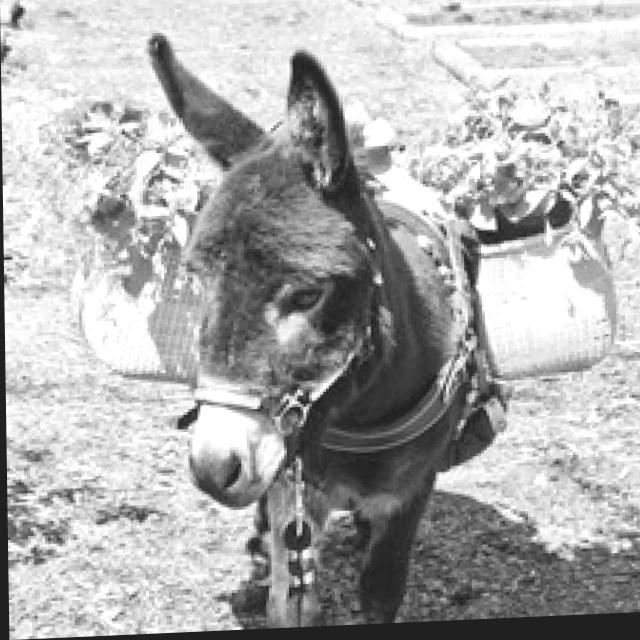Donkey: (144, 12, 512, 631), (0, 0, 26, 71)
